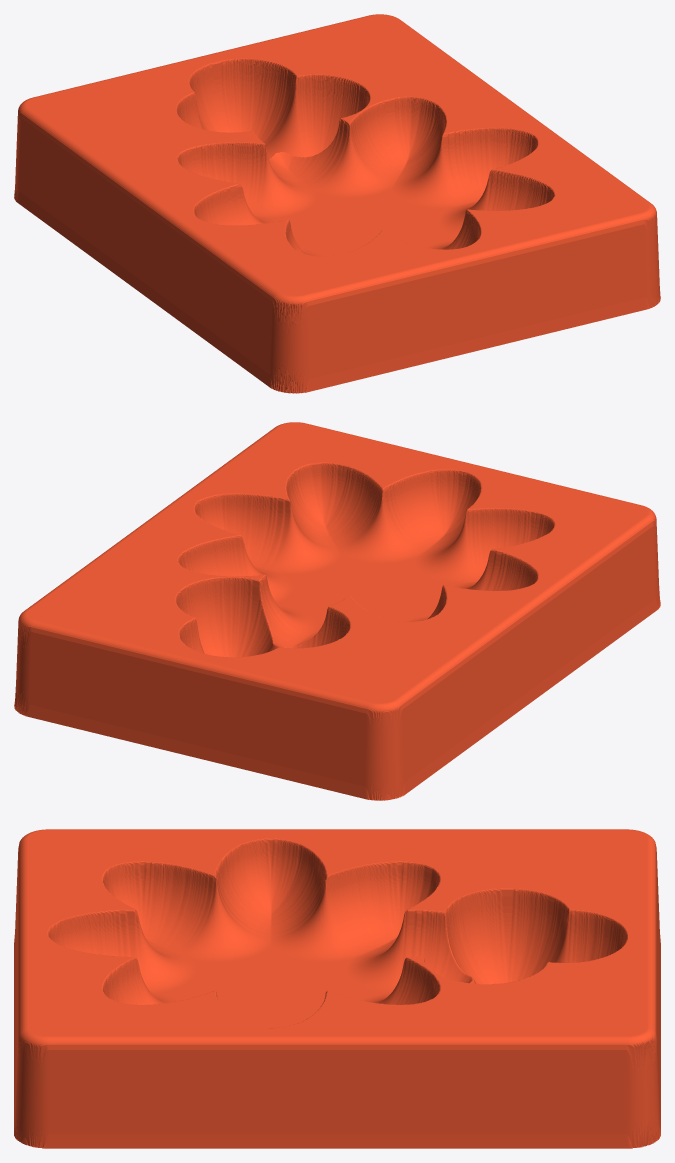
Rendered from mold.glb.
The picture shows the model from 3 angles, top to bottom: view 1: azimuth 30°, elevation 25°; view 2: azimuth 150°, elevation 25°; view 3: azimuth 270°, elevation 25°; orthographic projection. The views are drawn at different scales.
Parts seen in each view (by area): view 1: geometry_0; view 2: geometry_0; view 3: geometry_0.
Part boxes in pixels (x1,y1,x2,y2): geometry_0: (14,14,660,393); geometry_0: (14,422,660,800); geometry_0: (14,829,660,1148).
Size of the model in its own units: 0.1361 by 0.031 by 0.1709.
